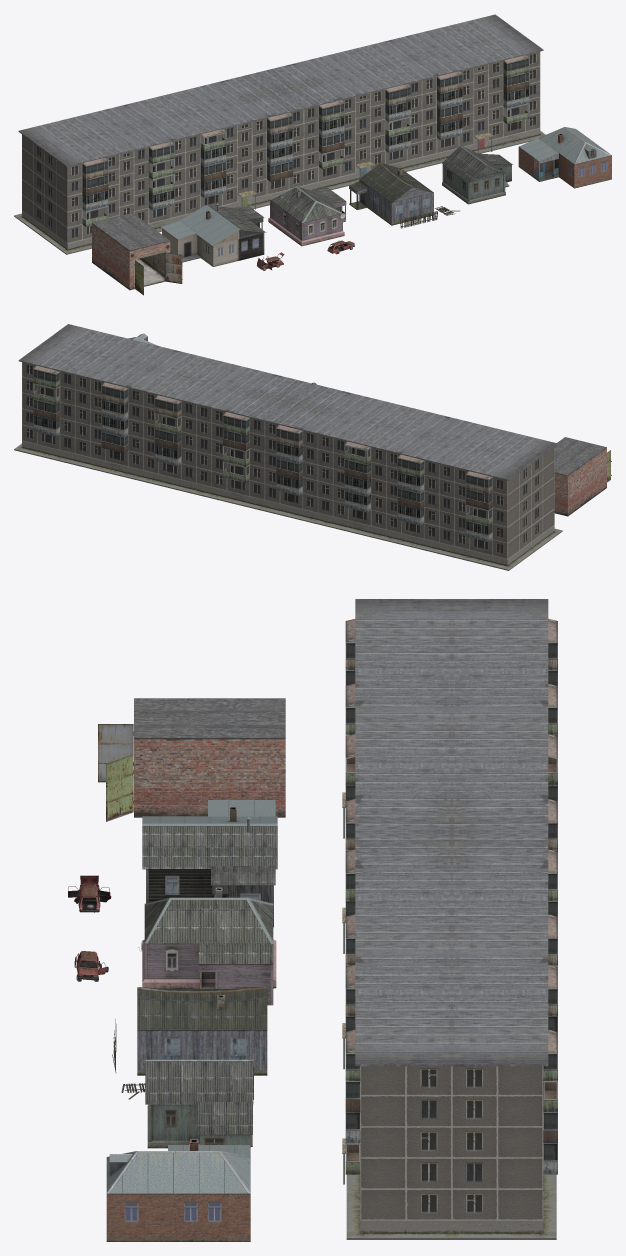
3 renders of one model, top to bottom at view 1: azimuth 30°, elevation 25°; view 2: azimuth 150°, elevation 25°; view 3: azimuth 270°, elevation 25°, orthographic. The views are drawn at different scales.
Visible parts, largest first — view 1: building6_building6_0, building1_a180_building1_0, garage_garage_0, building5_building5_0, building1_a181_building2_0, building3_building3_0, building4_building4_0, gate_right_garage_0; view 2: building6_building6_0, garage_garage_0; view 3: building6_building6_0, garage_garage_0, building5_building5_0, building1_a180_building1_0, building1_a181_building2_0, building3_building3_0, building4_building4_0, gate_right_garage_0, gate_left_garage_0.
Part boxes in pixels (left/top/right/bottom): building6_building6_0: left=14, top=14, right=545, bottom=254; building1_a180_building1_0: left=161, top=203, right=266, bottom=266; garage_garage_0: left=92, top=213, right=170, bottom=290; building5_building5_0: left=518, top=127, right=611, bottom=188; building1_a181_building2_0: left=268, top=186, right=346, bottom=246; building3_building3_0: left=349, top=162, right=433, bottom=225; building4_building4_0: left=442, top=145, right=512, bottom=204; gate_right_garage_0: left=165, top=252, right=182, bottom=283; building6_building6_0: left=14, top=324, right=562, bottom=570; garage_garage_0: left=554, top=437, right=606, bottom=516; building6_building6_0: left=342, top=599, right=557, bottom=1239; garage_garage_0: left=133, top=698, right=285, bottom=817; building5_building5_0: left=106, top=1139, right=250, bottom=1241; building1_a180_building1_0: left=142, top=800, right=277, bottom=927; building1_a181_building2_0: left=138, top=887, right=276, bottom=1005; building3_building3_0: left=137, top=987, right=267, bottom=1075; building4_building4_0: left=145, top=1059, right=253, bottom=1148; gate_right_garage_0: left=106, top=754, right=133, bottom=821; gate_left_garage_0: left=98, top=724, right=133, bottom=782.
Size of the model in its own units: 3326 by 567 by 1454.
9 materials, 9 textured.
